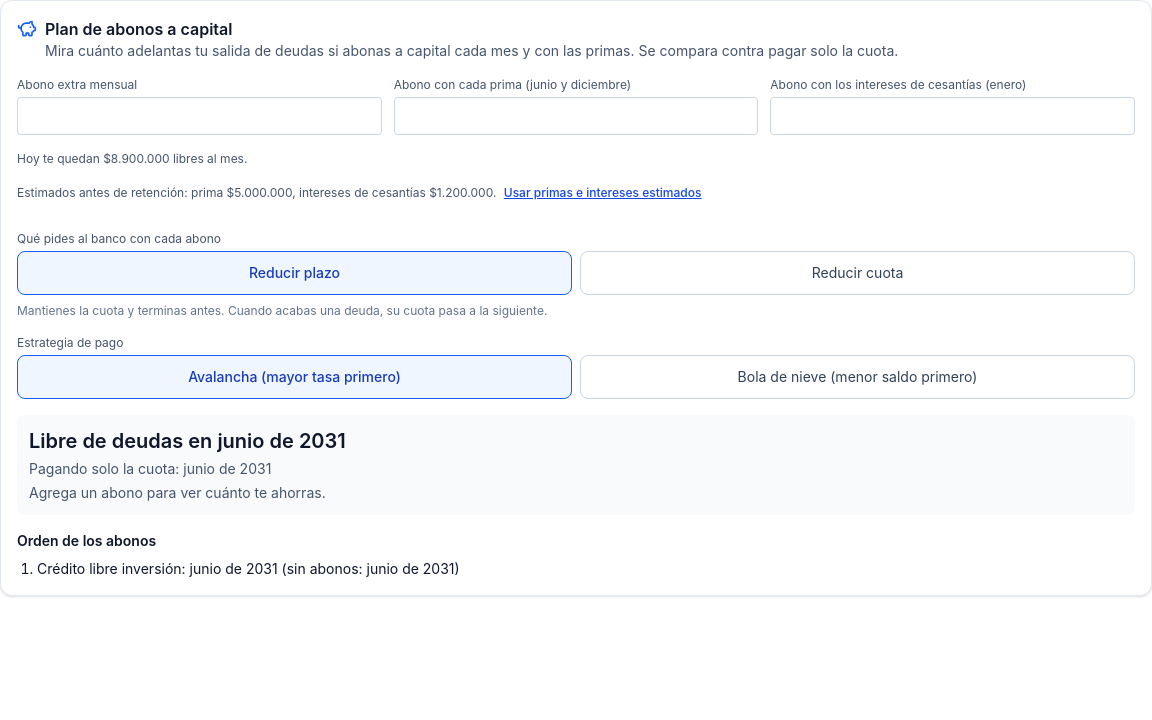
Test case: PrepaymentSimulator › fills prima and cesantías interest estimates from the salary
Click the button with test id "prepayment-use-estimates" at (603, 193), box [504, 171, 702, 215]
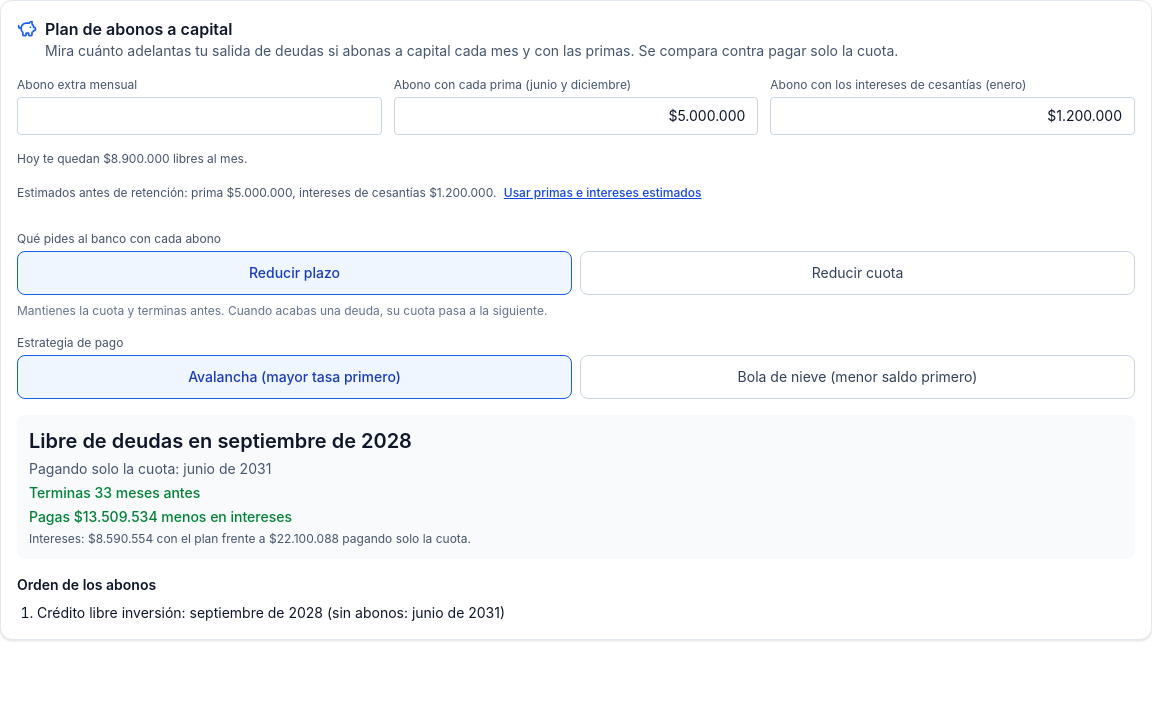
Result: the text "Terminas 33 meses antes" is shown at [29, 484, 200, 501]
